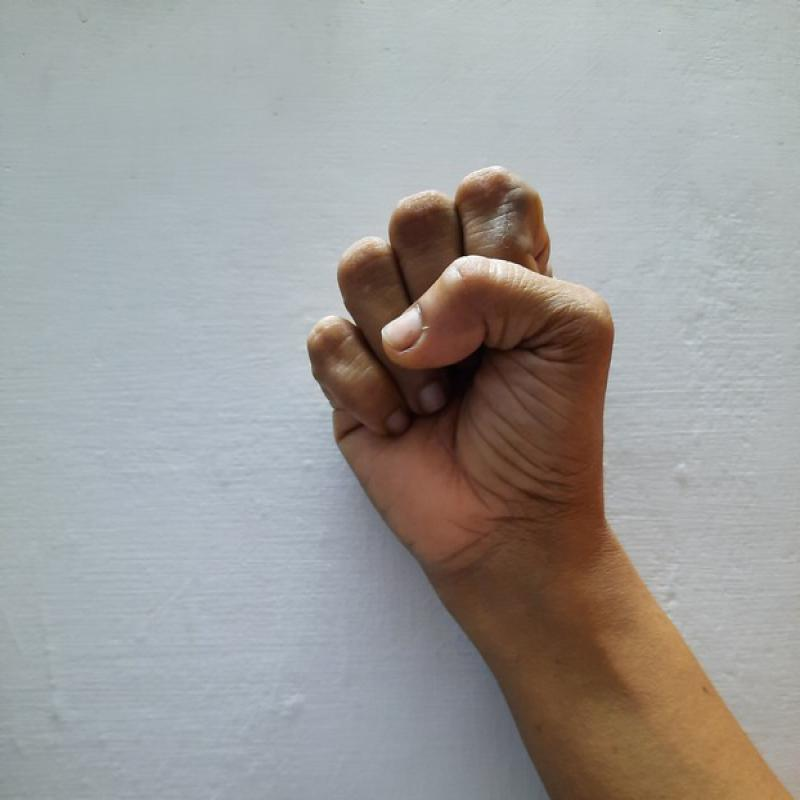Mushti: (280, 161, 659, 588)
